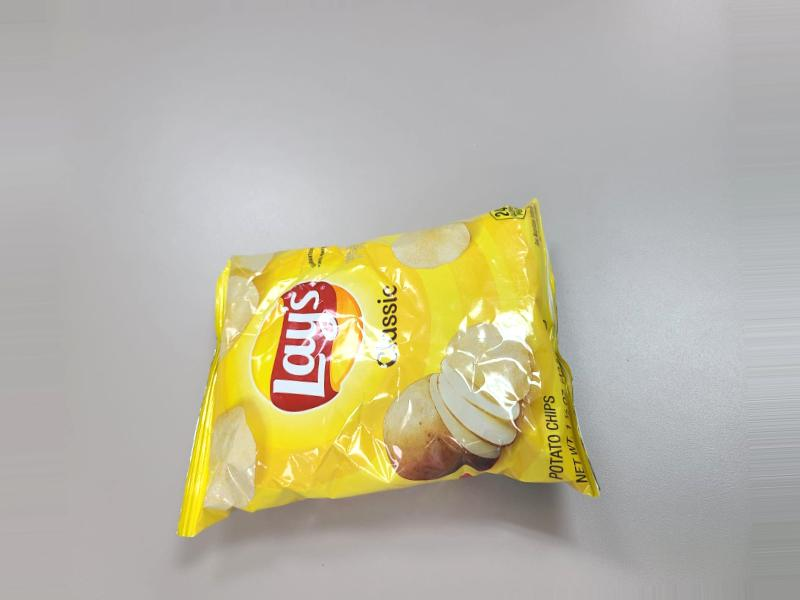lays: (192, 201, 599, 558)
